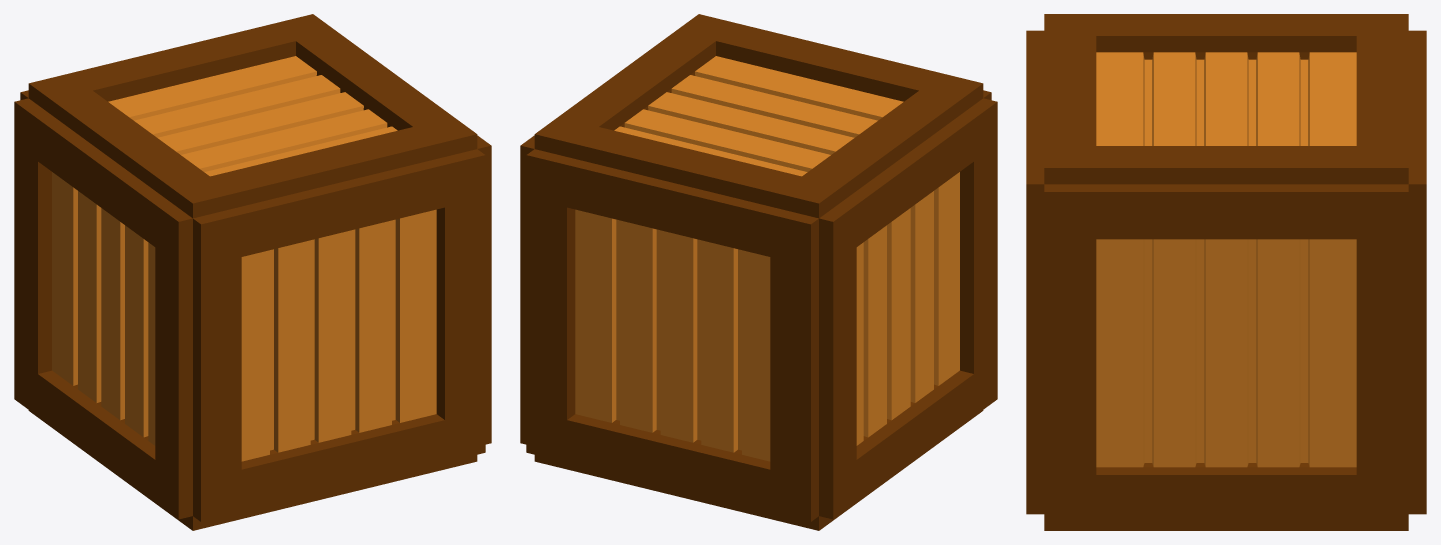
File: Crate.fbx
The picture shows the model from 3 angles, left to right: view 1: azimuth 30°, elevation 25°; view 2: azimuth 150°, elevation 25°; view 3: azimuth 270°, elevation 25°; orthographic projection. The views are drawn at different scales.
Parts seen in each view (by area): view 1: Crate; view 2: Crate; view 3: Crate.
Part boxes in pixels (x1,y1,x2,y2): Crate: (14, 14, 491, 530); Crate: (520, 14, 997, 530); Crate: (1026, 14, 1426, 530).
Bounding box in the file's own units: 55 × 55 × 55.
